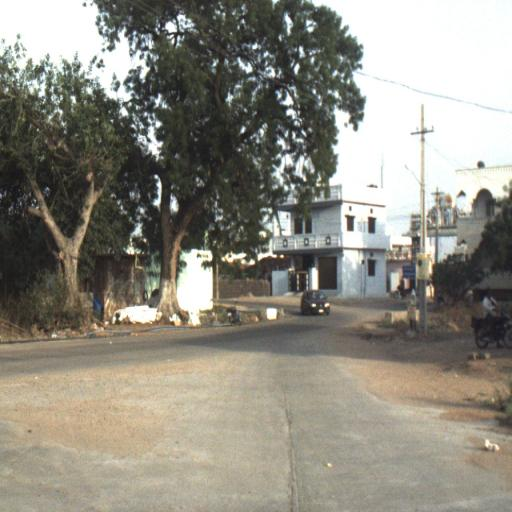street_light_0: (404, 164, 426, 201)
